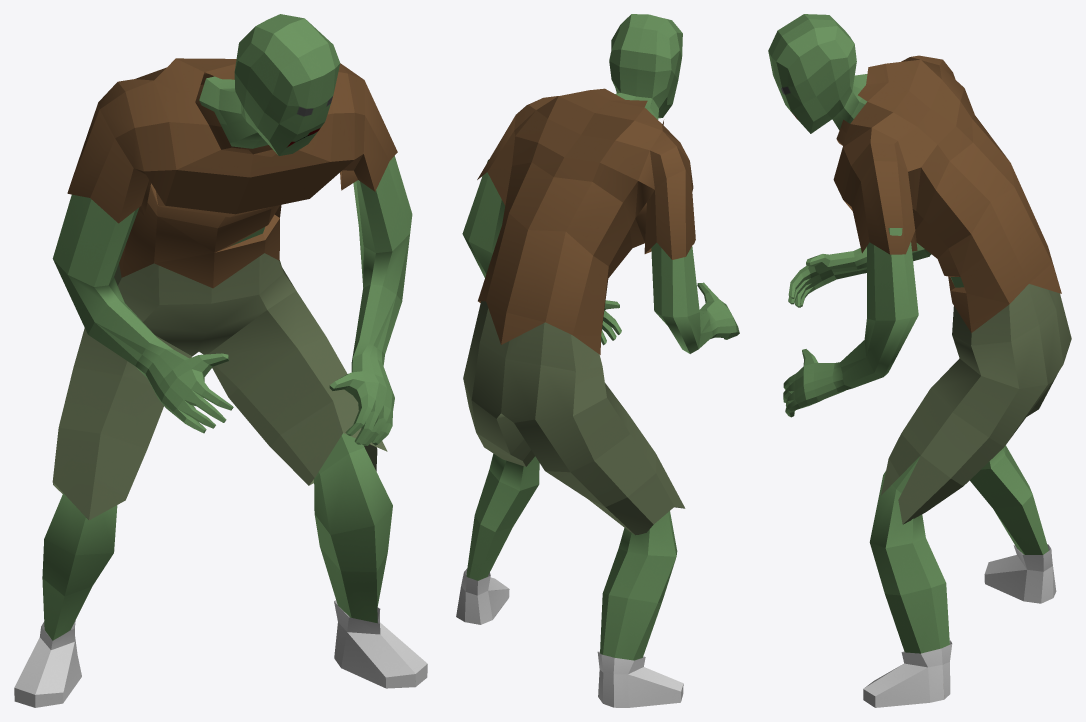
File: ZombieIdle(80).obj
The picture shows the model from 3 angles, left to right: view 1: azimuth 30°, elevation 25°; view 2: azimuth 150°, elevation 25°; view 3: azimuth 270°, elevation 25°; orthographic projection. The views are drawn at different scales.
Visible parts, largest first — view 1: Object001; view 2: Object001; view 3: Object001.
Part boxes in pixels (left/top/right/bottom): Object001: left=14, top=14, right=427, bottom=707; Object001: left=456, top=14, right=739, bottom=707; Object001: left=768, top=14, right=1071, bottom=707.
Bounding box in the file's own units: 24.56 × 51 × 22.74.
